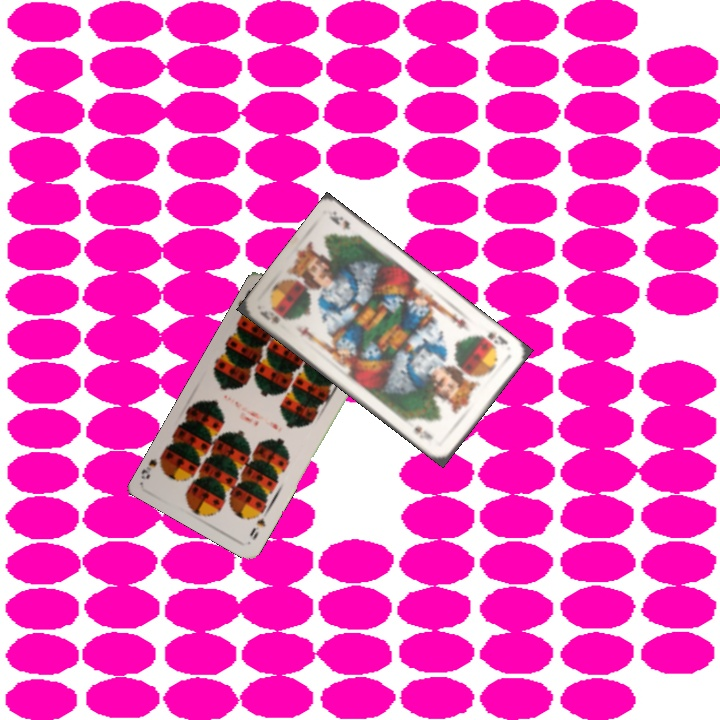S9: (245, 507, 271, 543)
SK: (483, 328, 510, 348), (255, 306, 282, 326)
